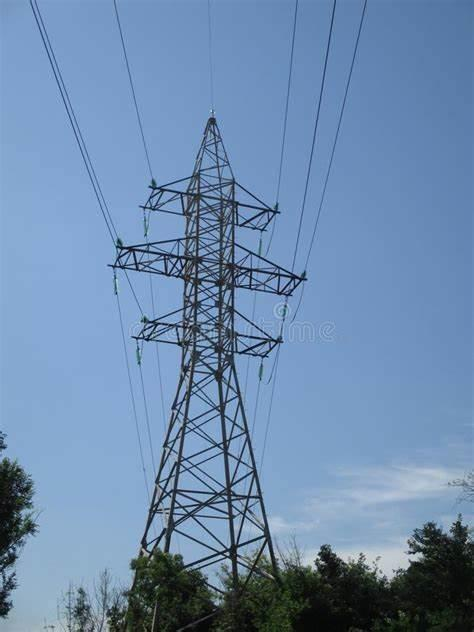power_tower: (110, 106, 310, 608)
